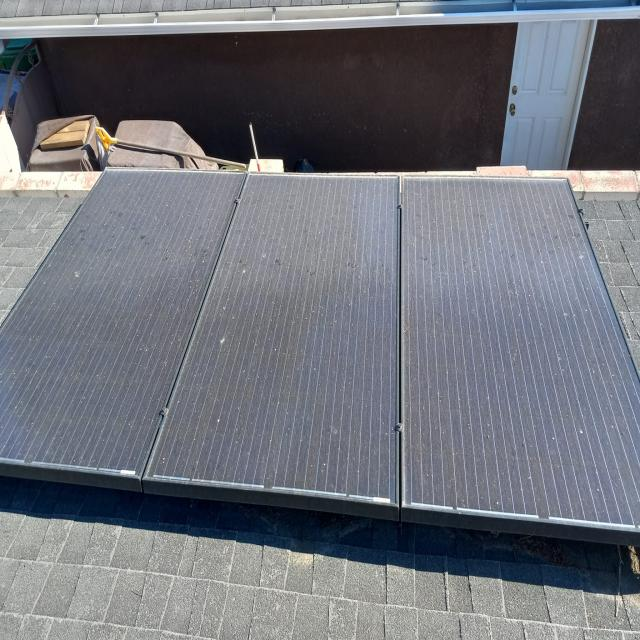dust-solar-panel: (0, 166, 640, 538)
